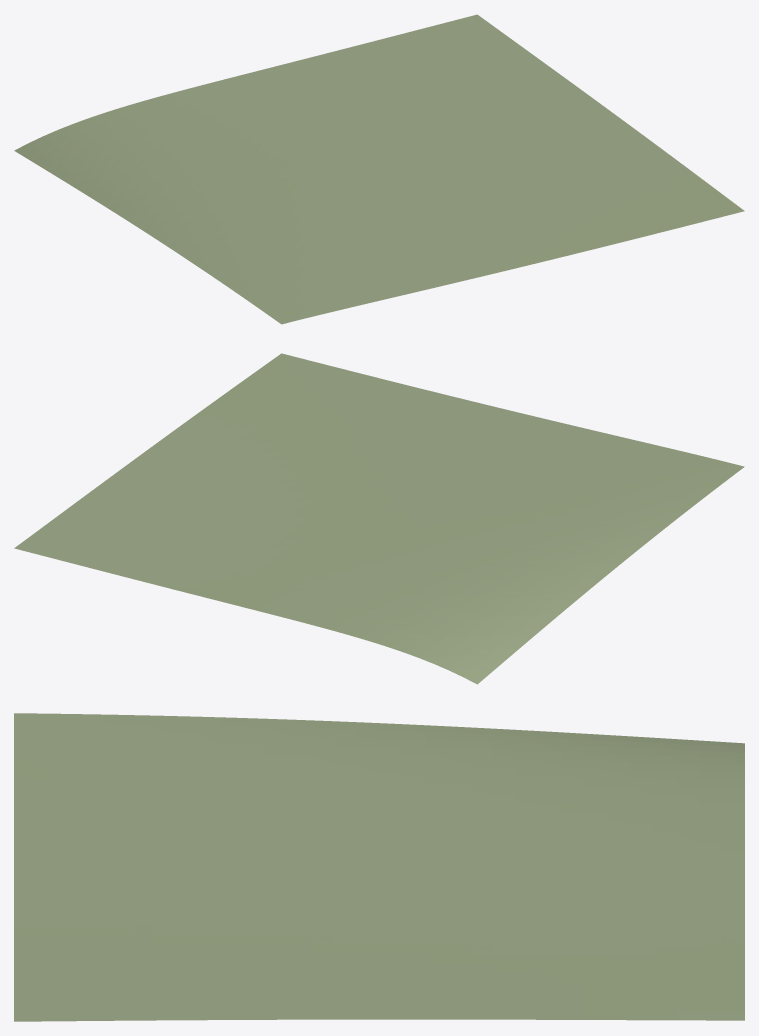
The model's file is expanse-15-12.glb.
The picture shows the model from 3 angles, top to bottom: view 1: azimuth 30°, elevation 25°; view 2: azimuth 150°, elevation 25°; view 3: azimuth 270°, elevation 25°; orthographic projection. The views are drawn at different scales.
Visible parts, largest first — view 1: expanse-15-12; view 2: expanse-15-12; view 3: expanse-15-12.
Boxes of the visible parts, left/top/right/bottom form: expanse-15-12: left=14, top=14, right=744, bottom=324; expanse-15-12: left=14, top=353, right=744, bottom=684; expanse-15-12: left=14, top=713, right=744, bottom=1021.
Bounding box in the file's own units: 256 × 12.62 × 256.
